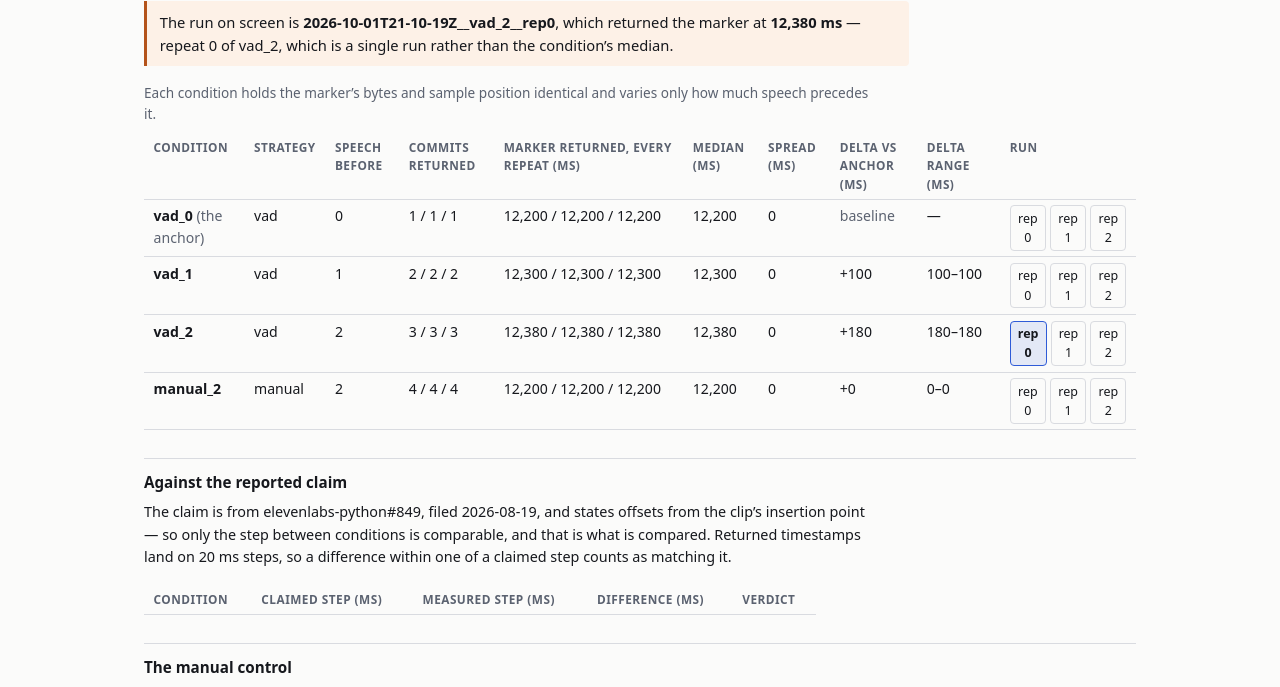
Test: switching between strategies and conditions › switches run from the table as well as the picker
This screenshot has width=1280, height=687.
(page scrolled)
Click the button "rep 2" in the row of "4 / 4 / 4".
click(1108, 401)  # box [1090,378,1126,424]
(page scrolled)
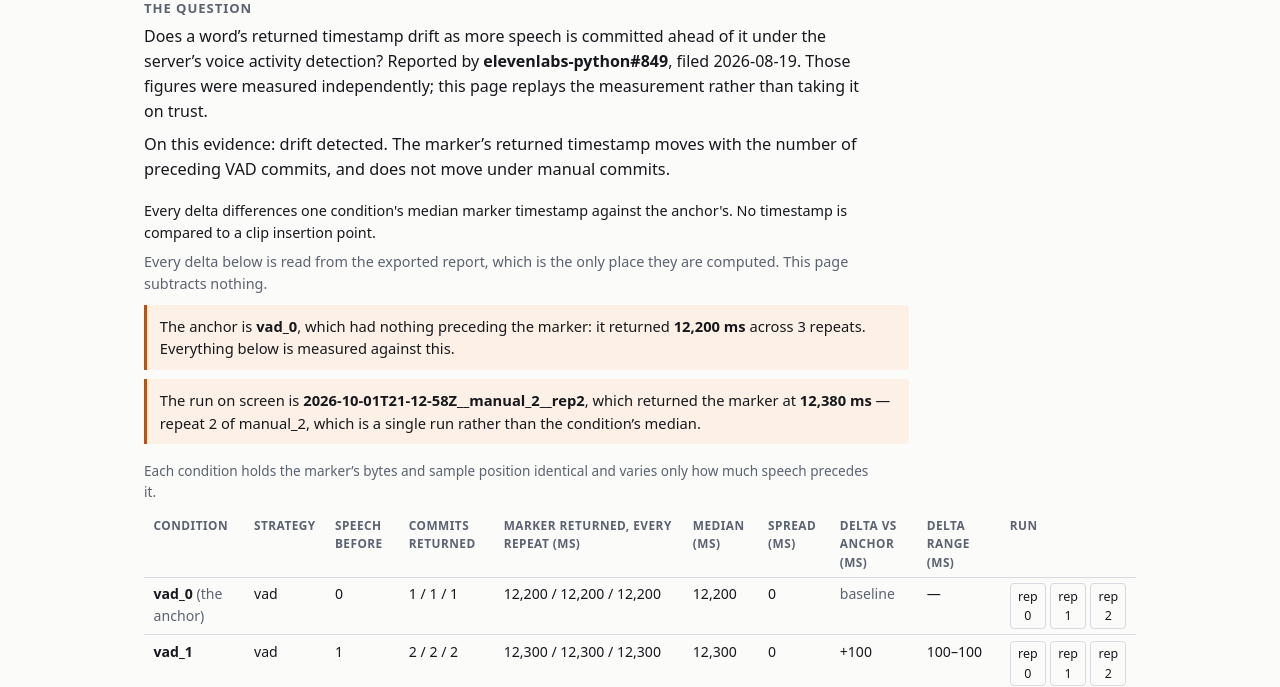
Now the text "2026-10-01T21-12-58Z__manual_2__rep2" is shown, box [303,390,585,410]
